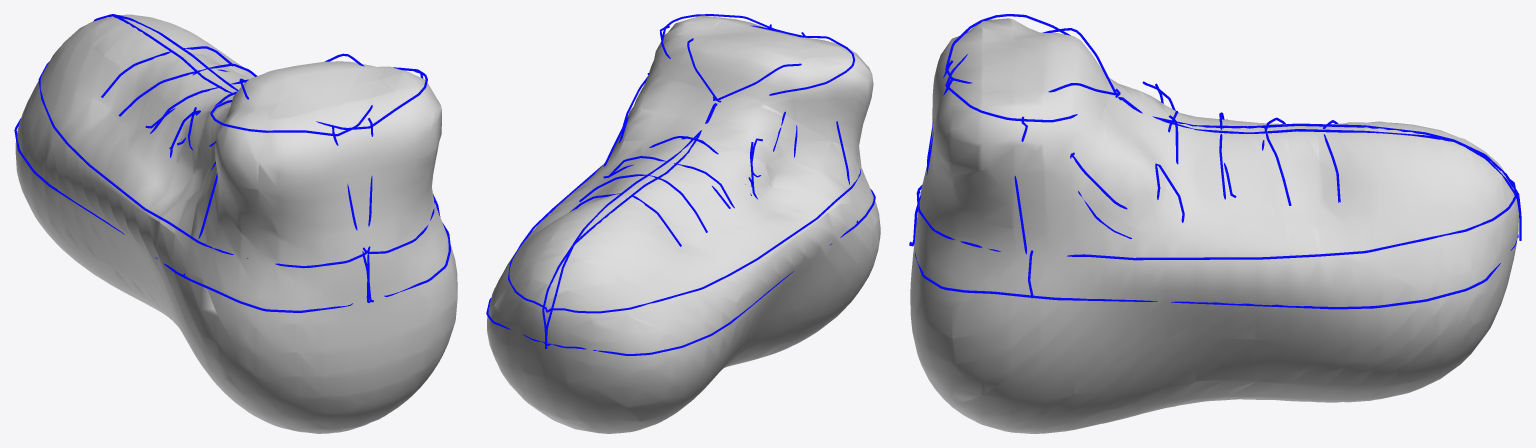
The model's file is cassie_p9_shoe_sketch_proxy.glb.
The picture shows the model from 3 angles, left to right: view 1: azimuth 30°, elevation 25°; view 2: azimuth 150°, elevation 25°; view 3: azimuth 270°, elevation 25°; orthographic projection. The views are drawn at different scales.
Parts seen in each view (by area): view 1: cassie_p9_shoe_surface, cassie_p9_shoe; view 2: cassie_p9_shoe_surface, cassie_p9_shoe; view 3: cassie_p9_shoe_surface, cassie_p9_shoe.
Part boxes in pixels (x1,y1,x2,y2): cassie_p9_shoe_surface: (15, 14, 457, 433); cassie_p9_shoe: (14, 14, 450, 312); cassie_p9_shoe_surface: (487, 15, 880, 433); cassie_p9_shoe: (486, 14, 875, 355); cassie_p9_shoe_surface: (910, 18, 1519, 433); cassie_p9_shoe: (909, 14, 1521, 309).
Size of the model in its own units: 0.5071 by 0.6615 by 1.
